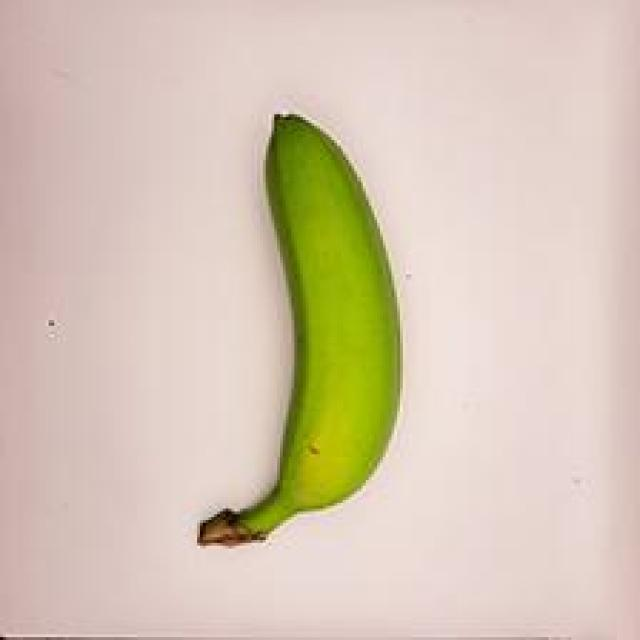unripe: (182, 100, 422, 572)
